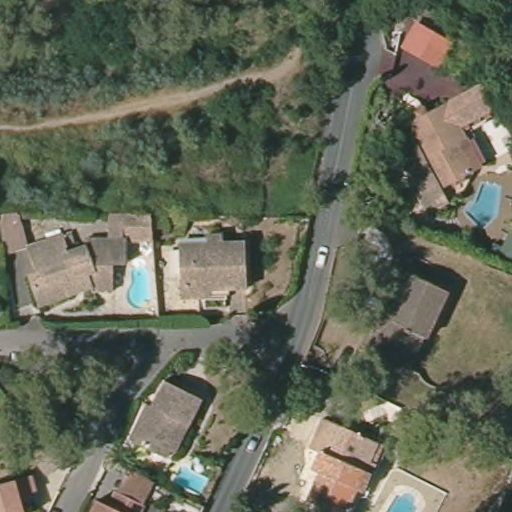pool: (463, 180, 504, 231), (128, 259, 161, 312), (171, 455, 212, 494), (375, 485, 429, 512)
